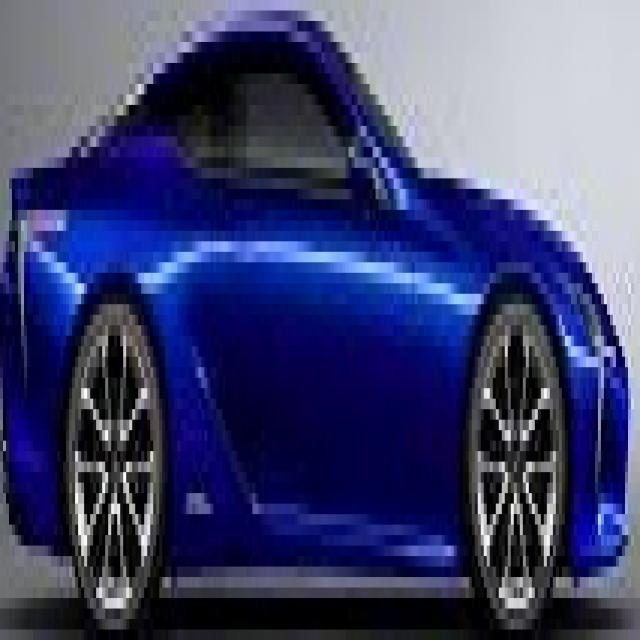blue: (3, 40, 640, 640)
